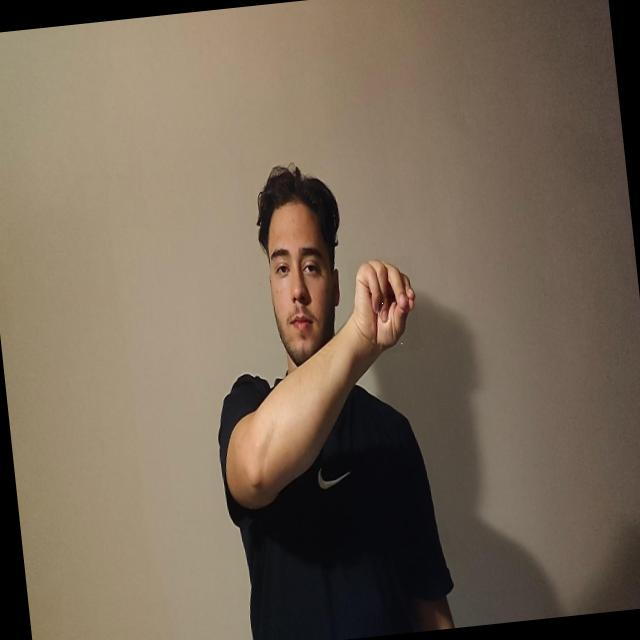no: (346, 255, 421, 356)
